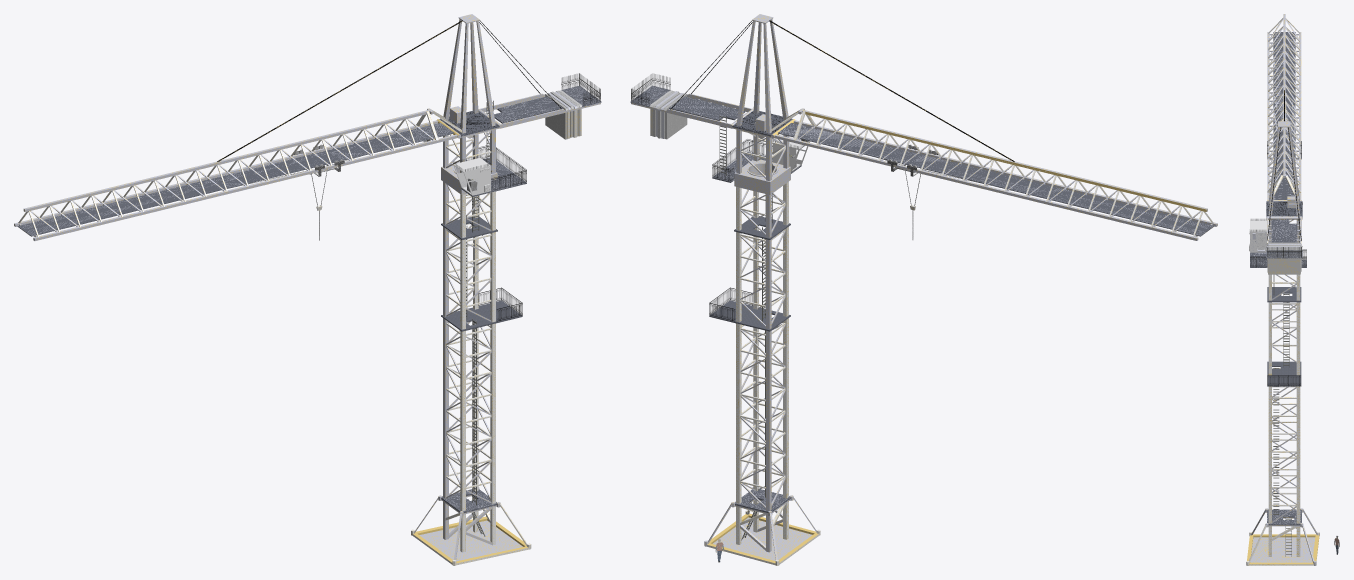
The model's file is kran_1.glb.
The picture shows the model from 3 angles, left to right: view 1: azimuth 30°, elevation 25°; view 2: azimuth 150°, elevation 25°; view 3: azimuth 270°, elevation 25°; orthographic projection. The views are drawn at different scales.
Parts seen in each view (by area): view 1: ID1136_2, ID1637_1, ID449_2, ID1136_1, ID900_1, ID908_1, ID1136_3, ID872_1, ID465, ID916_1, ID1110_1, ID1637_2 (+2 smaller); view 2: ID1637_1, ID1136_2, ID449_2, ID1136_1, ID916_1, ID900_1, ID872_1, ID1136_3, ID908_1, ID2790, ID1637_2, ID1102_1 (+4 smaller); view 3: ID1136_2, ID1637_1, ID872_1, ID1136_1, ID916_1, ID908_1, ID1136_3, ID465, ID1110_1, ID1892_1, ID864, ID1637_2 (+22 smaller).
Boxes of the visible parts, <box> form: ID1136_2: <box>14,108,457,240</box>; ID1637_1: <box>18,123,453,236</box>; ID449_2: <box>443,181,474,539</box>; ID1136_1: <box>18,109,461,237</box>; ID900_1: <box>460,194,465,552</box>; ID908_1: <box>490,191,495,545</box>; ID1136_3: <box>14,108,461,239</box>; ID872_1: <box>419,520,522,561</box>; ID465: <box>441,300,522,331</box>; ID916_1: <box>473,195,478,532</box>; ID1110_1: <box>494,96,562,123</box>; ID1637_2: <box>20,123,453,236</box>; ID1637_1: <box>778,123,1213,236</box>; ID1136_2: <box>774,108,1217,240</box>; ID449_2: <box>740,194,785,552</box>; ID1136_1: <box>770,109,1213,237</box>; ID916_1: <box>736,187,741,544</box>; ID900_1: <box>783,181,788,539</box>; ID872_1: <box>713,517,812,560</box>; ID1136_3: <box>770,109,1217,240</box>; ID908_1: <box>753,191,758,532</box>; ID2790: <box>805,111,1206,211</box>; ID1637_2: <box>779,124,1212,234</box>; ID1102_1: <box>734,159,790,194</box>; ID1136_2: <box>1267,14,1301,199</box>; ID1637_1: <box>1273,32,1295,199</box>; ID872_1: <box>1250,537,1315,562</box>; ID1136_1: <box>1267,18,1301,195</box>; ID916_1: <box>1296,274,1300,556</box>; ID908_1: <box>1268,274,1271,556</box>; ID1136_3: <box>1267,14,1301,199</box>; ID465: <box>1267,361,1301,385</box>; ID1110_1: <box>1271,219,1297,242</box>; ID1892_1: <box>1268,258,1300,274</box>; ID864: <box>1247,534,1319,564</box>; ID1637_2: <box>1273,33,1295,199</box>.
Size of the model in its own units: 27.35 by 24.13 by 4.8.
32 materials, 6 textured.
